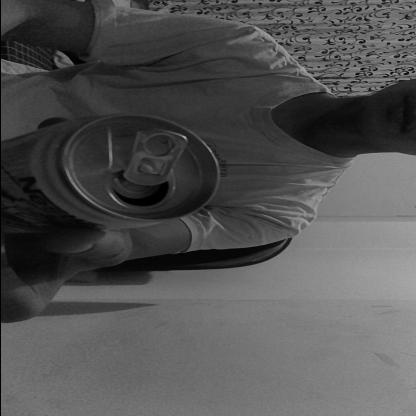alumunium_can: (0, 115, 226, 231)
